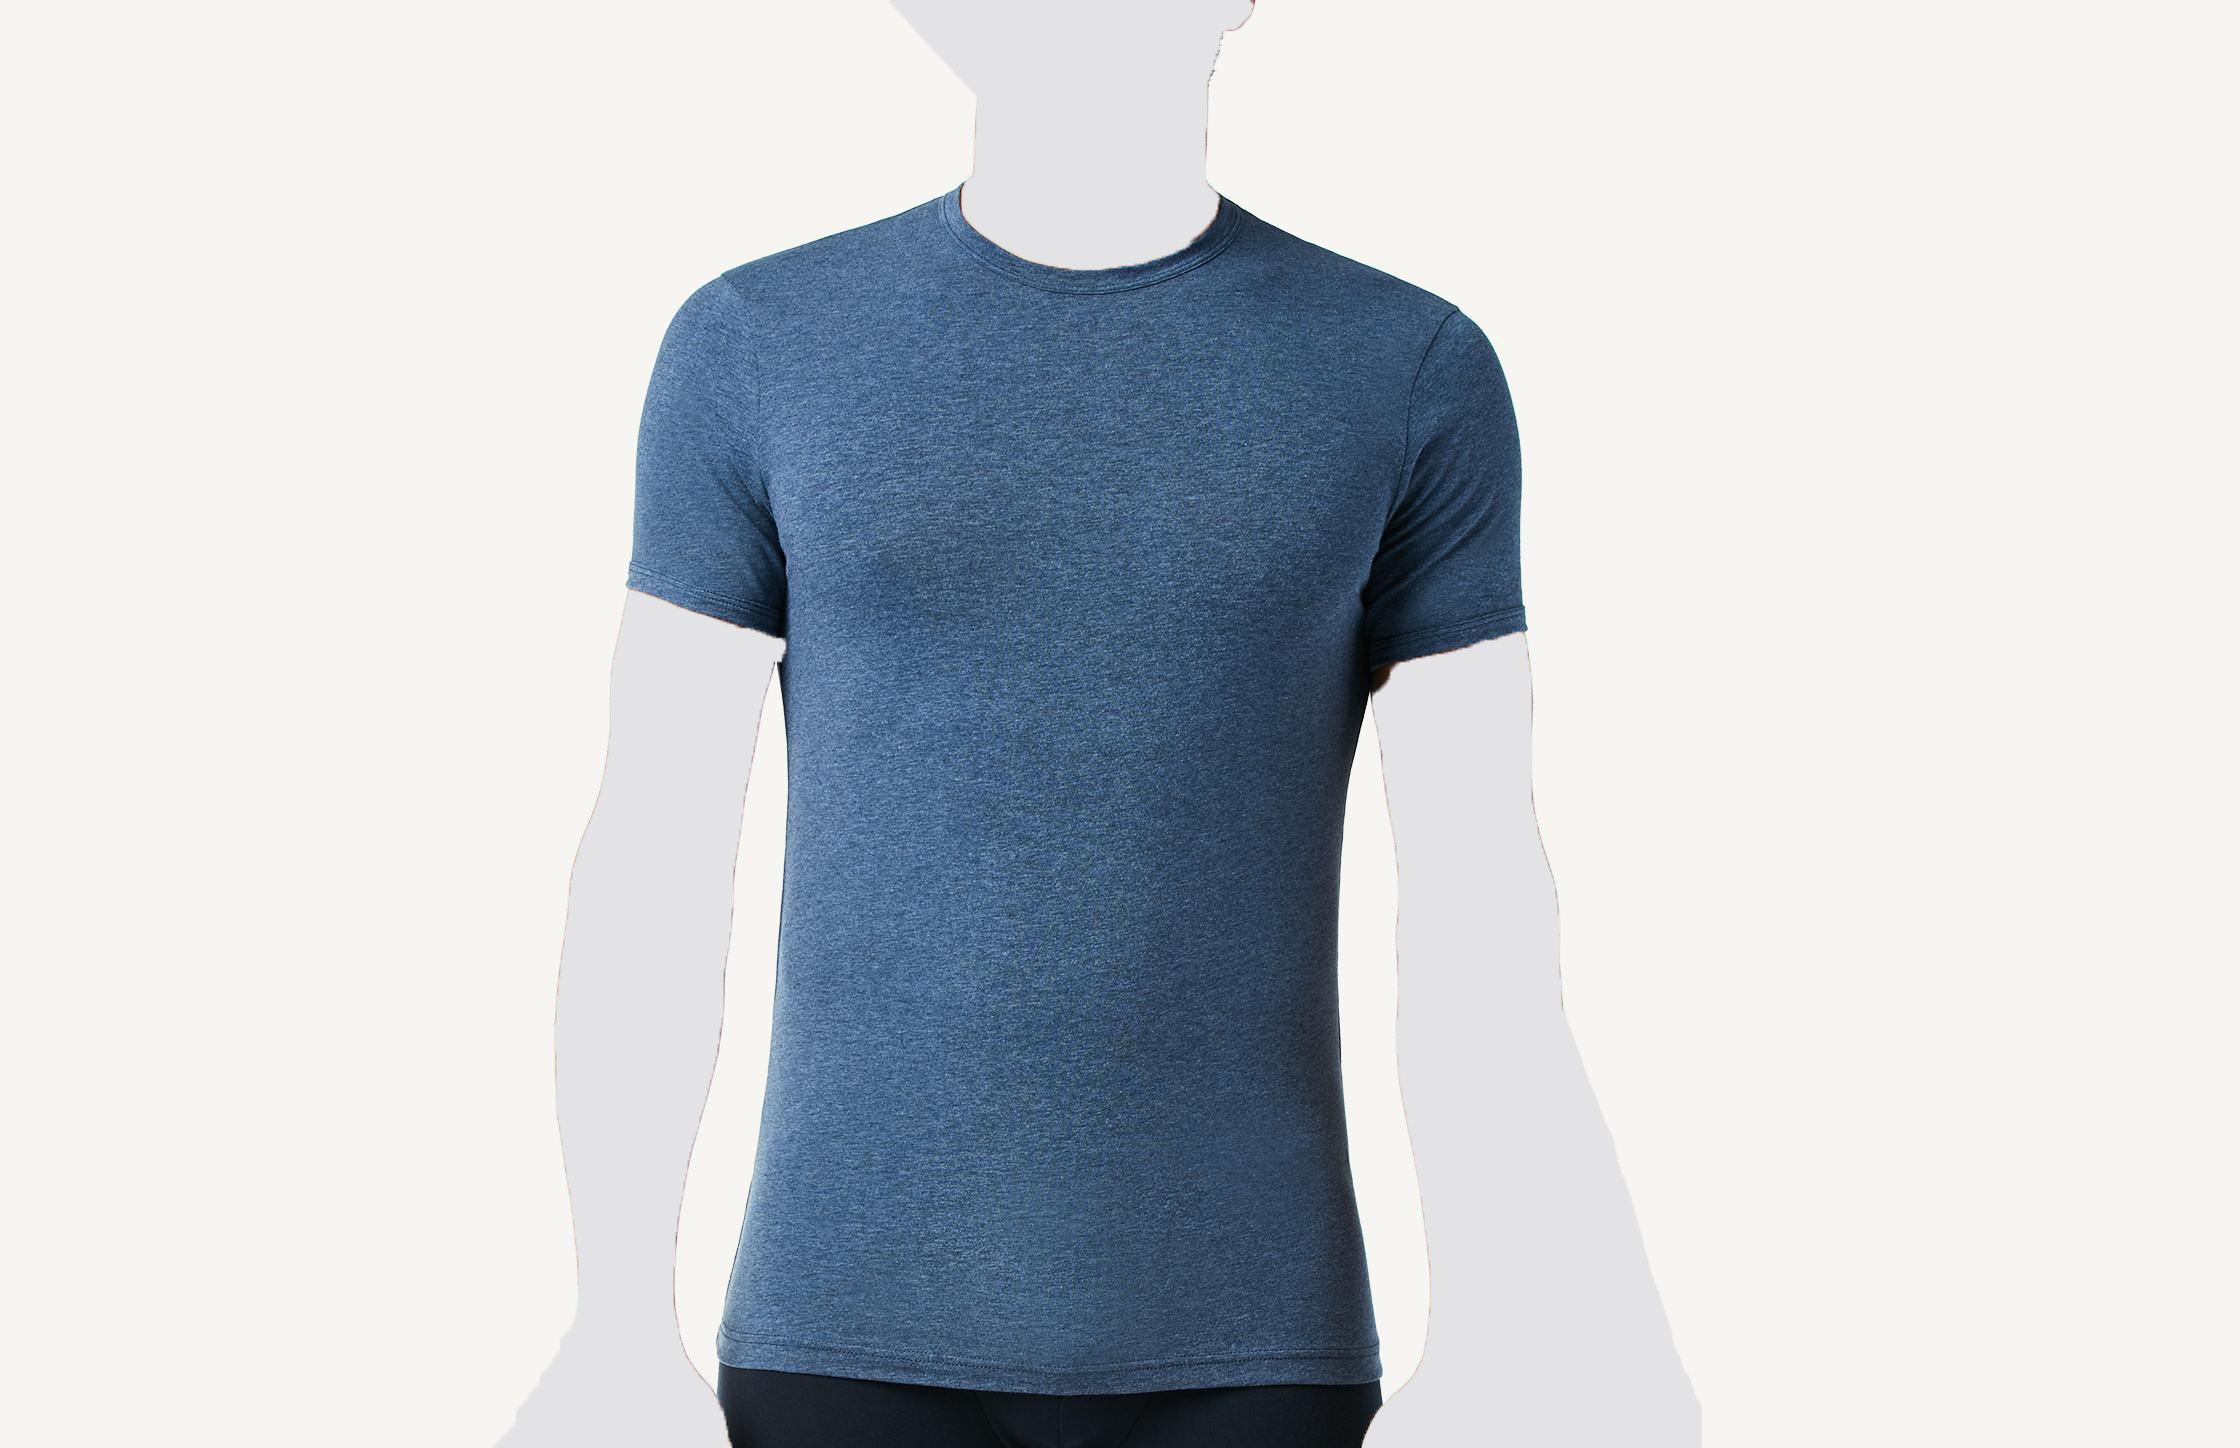teeshirt: (609, 181, 1541, 1446)
